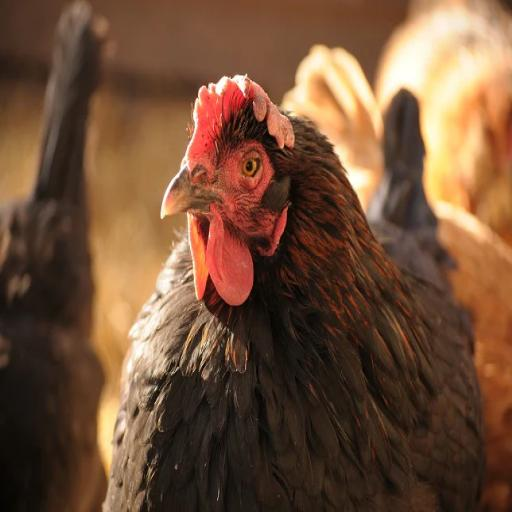disease: (225, 129, 278, 208)
